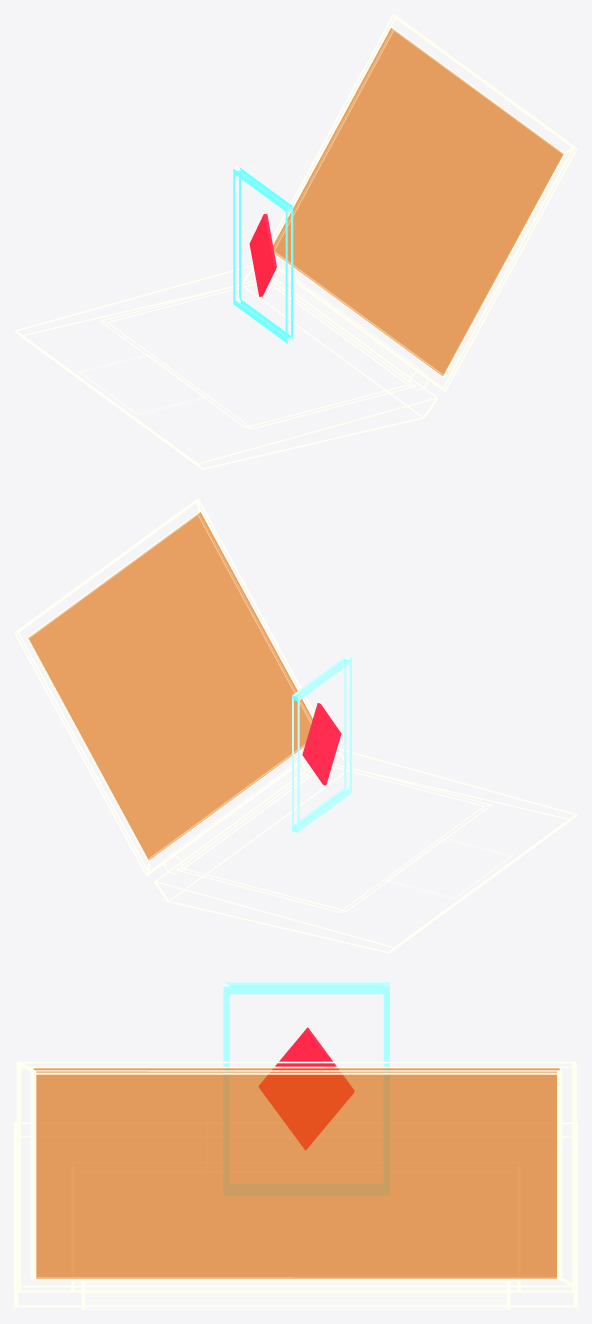
Rendered from computer.glb.
3 views of the same model, one above another, from view 1: azimuth 30°, elevation 25°; view 2: azimuth 150°, elevation 25°; view 3: azimuth 270°, elevation 25° (orthographic). The views are drawn at different scales.
Visible parts, largest first — view 1: screen cut, Screen, C-face, Cube.001, C-face cut, Cylinder, Cube.002; view 2: screen cut, Screen, C-face, Cube.001, C-face cut, Cylinder, Cube.002; view 3: screen cut, Screen, Cylinder, Cube.001, Cube.002, C-face, C-face cut.
Boxes of the visible parts, bbox=[...] form: screen cut: bbox=[273, 28, 563, 375]; Screen: bbox=[271, 14, 577, 391]; C-face: bbox=[14, 264, 438, 469]; Cube.001: bbox=[233, 167, 293, 343]; C-face cut: bbox=[99, 280, 416, 429]; Cylinder: bbox=[271, 269, 428, 390]; Cube.002: bbox=[249, 214, 276, 296]; screen cut: bbox=[28, 512, 312, 859]; Screen: bbox=[14, 498, 314, 875]; C-face: bbox=[154, 748, 577, 953]; Cube.001: bbox=[292, 656, 351, 832]; C-face cut: bbox=[175, 763, 492, 912]; Cylinder: bbox=[163, 756, 314, 874]; Cube.002: bbox=[302, 703, 341, 785]; screen cut: bbox=[34, 1068, 559, 1278]; Screen: bbox=[16, 1061, 576, 1292]; Cylinder: bbox=[81, 1280, 510, 1309]; Cube.001: bbox=[223, 982, 389, 1195]; Cube.002: bbox=[259, 1027, 354, 1150]; C-face: bbox=[14, 1122, 577, 1307]; C-face cut: bbox=[71, 1162, 520, 1290].
Bounding box in the file's own units: 3.97 × 2.32 × 3.31.
